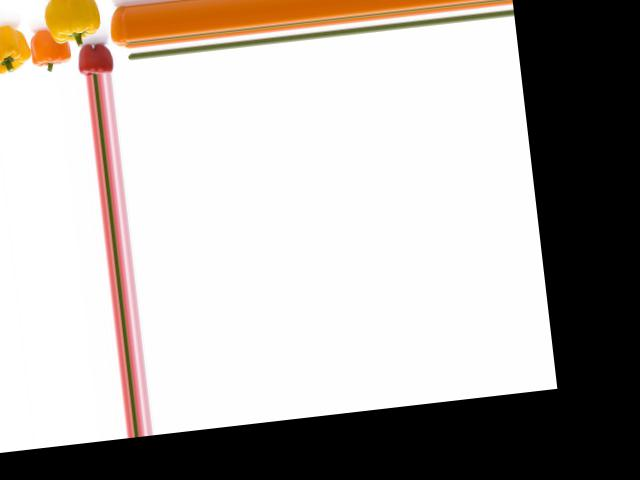bell_pepper: (105, 5, 131, 51)
